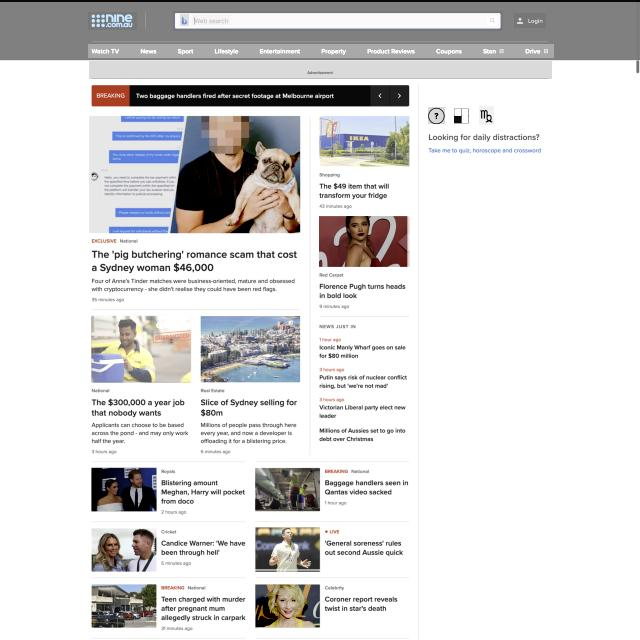CheckBox: (514, 13, 546, 28)
CheckedTextView: (200, 315, 301, 383), (173, 11, 503, 31), (92, 316, 191, 382), (320, 216, 410, 267), (91, 467, 157, 512), (255, 528, 320, 572), (255, 584, 320, 628)
ImageView: (89, 61, 552, 79)
accordion: (425, 90, 554, 102)
bag: (0, 2, 640, 61)
breadcrumbs: (428, 132, 541, 142)
carousel: (452, 107, 471, 125), (428, 107, 445, 124), (479, 106, 494, 125), (180, 14, 189, 26), (487, 16, 497, 26), (515, 16, 524, 26)
copy: (89, 116, 300, 233), (319, 115, 409, 168)
date picker: (88, 12, 137, 30)
decoration: (88, 44, 554, 58)
footer: (192, 15, 230, 25)
